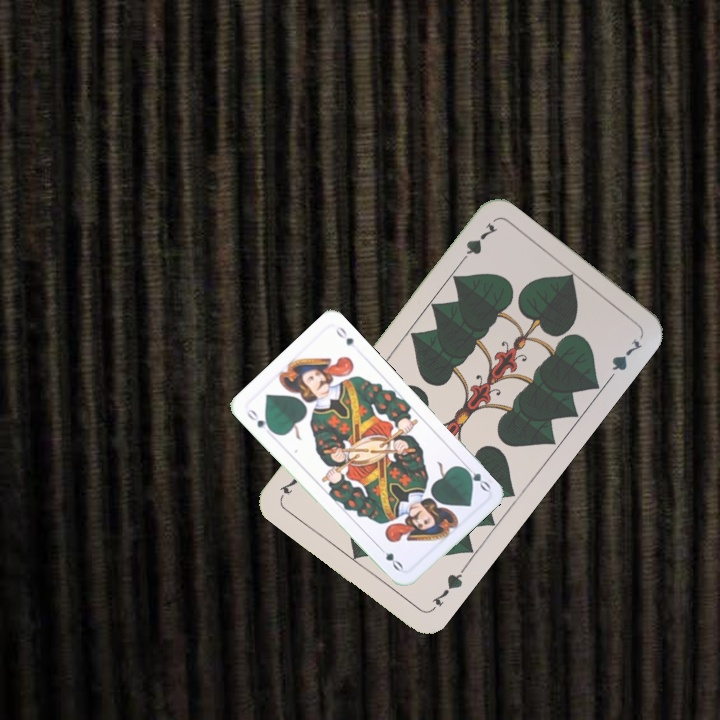G7: (454, 218, 500, 269), (427, 563, 468, 614)
GO: (458, 460, 493, 494), (242, 405, 276, 435)
